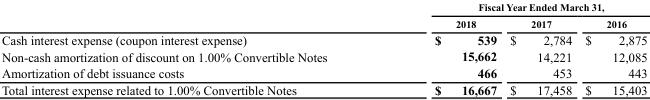table: (0, 0, 646, 96)
table column: (0, 0, 380, 96), (380, 0, 502, 96), (502, 0, 577, 96), (577, 0, 646, 96)
table column header: (0, 0, 646, 30)
table row: (0, 30, 646, 47), (0, 47, 646, 64), (0, 64, 646, 81), (0, 14, 646, 30), (0, 81, 646, 96), (0, 0, 646, 14)
table spanning cell: (380, 0, 646, 14)
